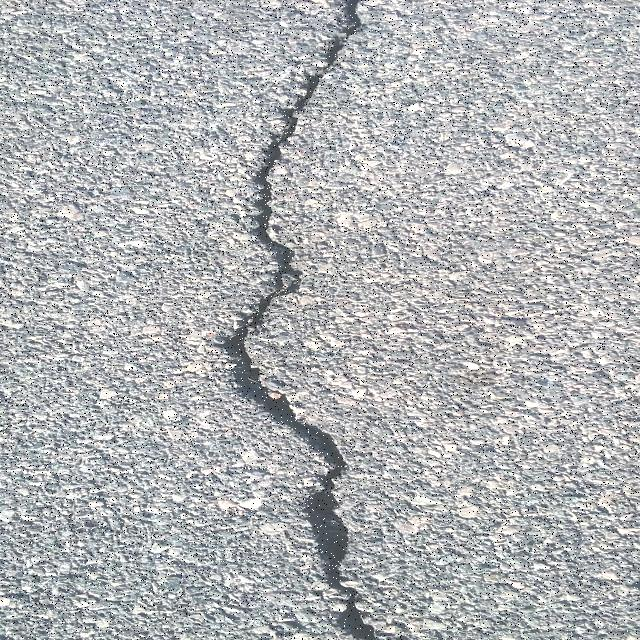Crack: (221, 0, 379, 640)
